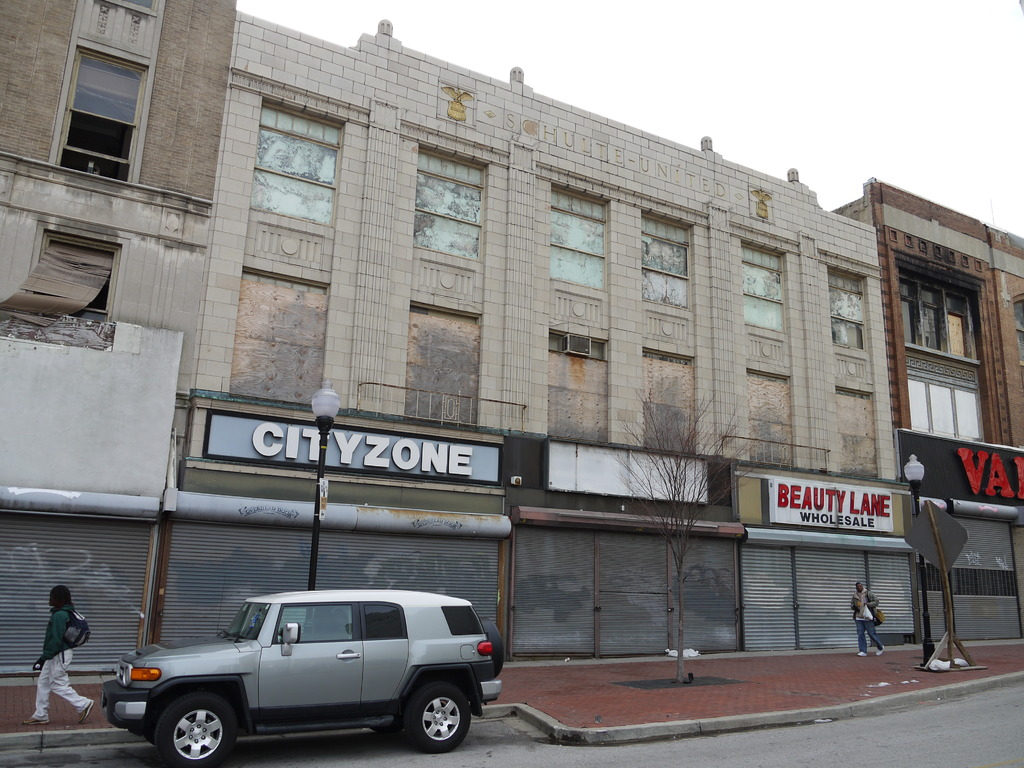Car: (99, 590, 482, 756)
